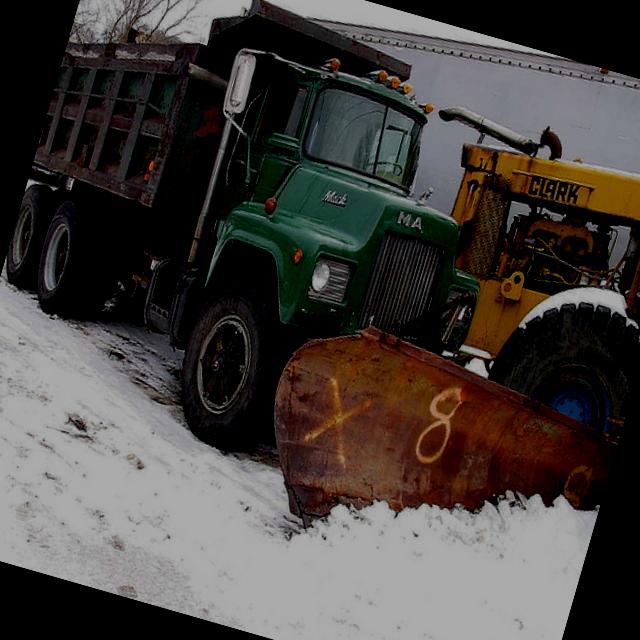Vehicle: (0, 0, 537, 506)
